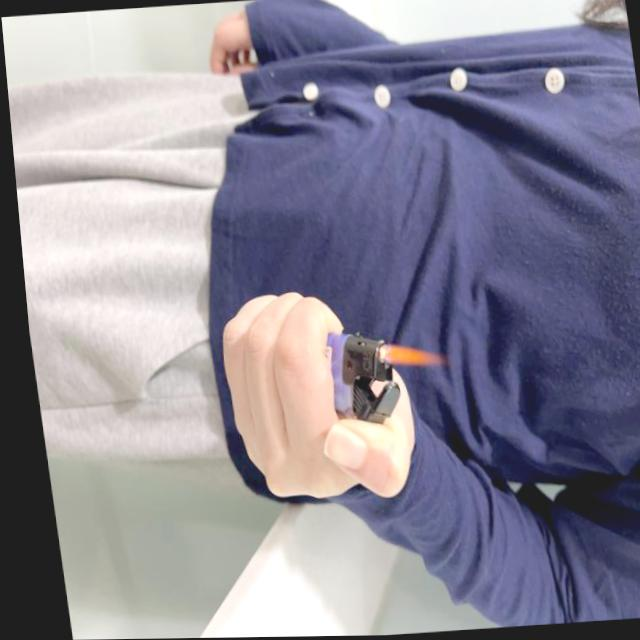helmet: (368, 336, 436, 372)
